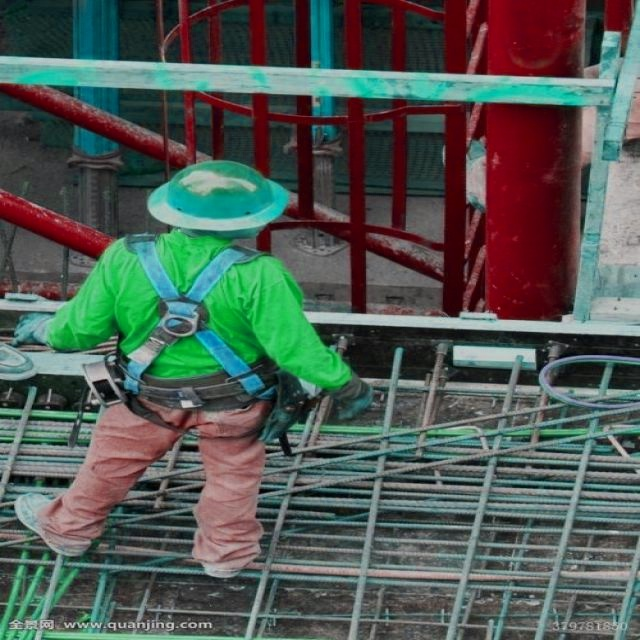safety belt: (98, 243, 285, 413)
